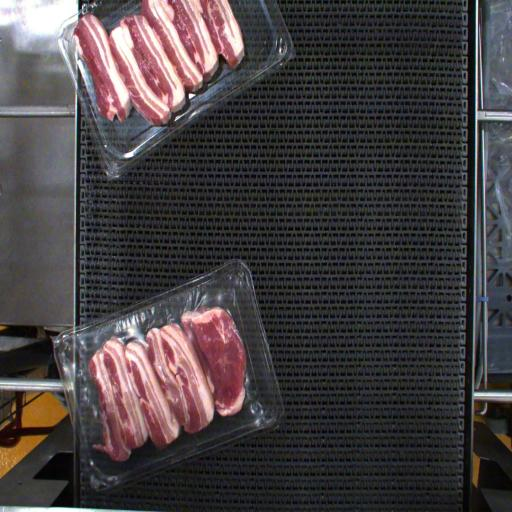unsealed: (62, 278, 271, 440)
